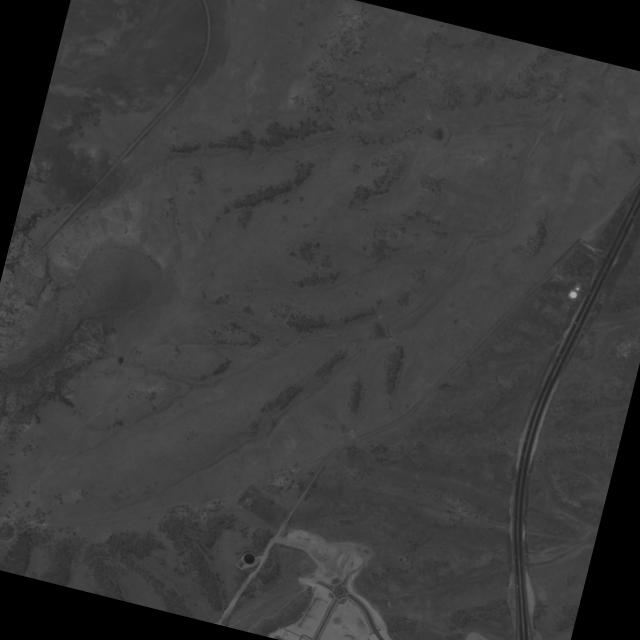storage-tank: (568, 289, 578, 298), (574, 285, 580, 290)
